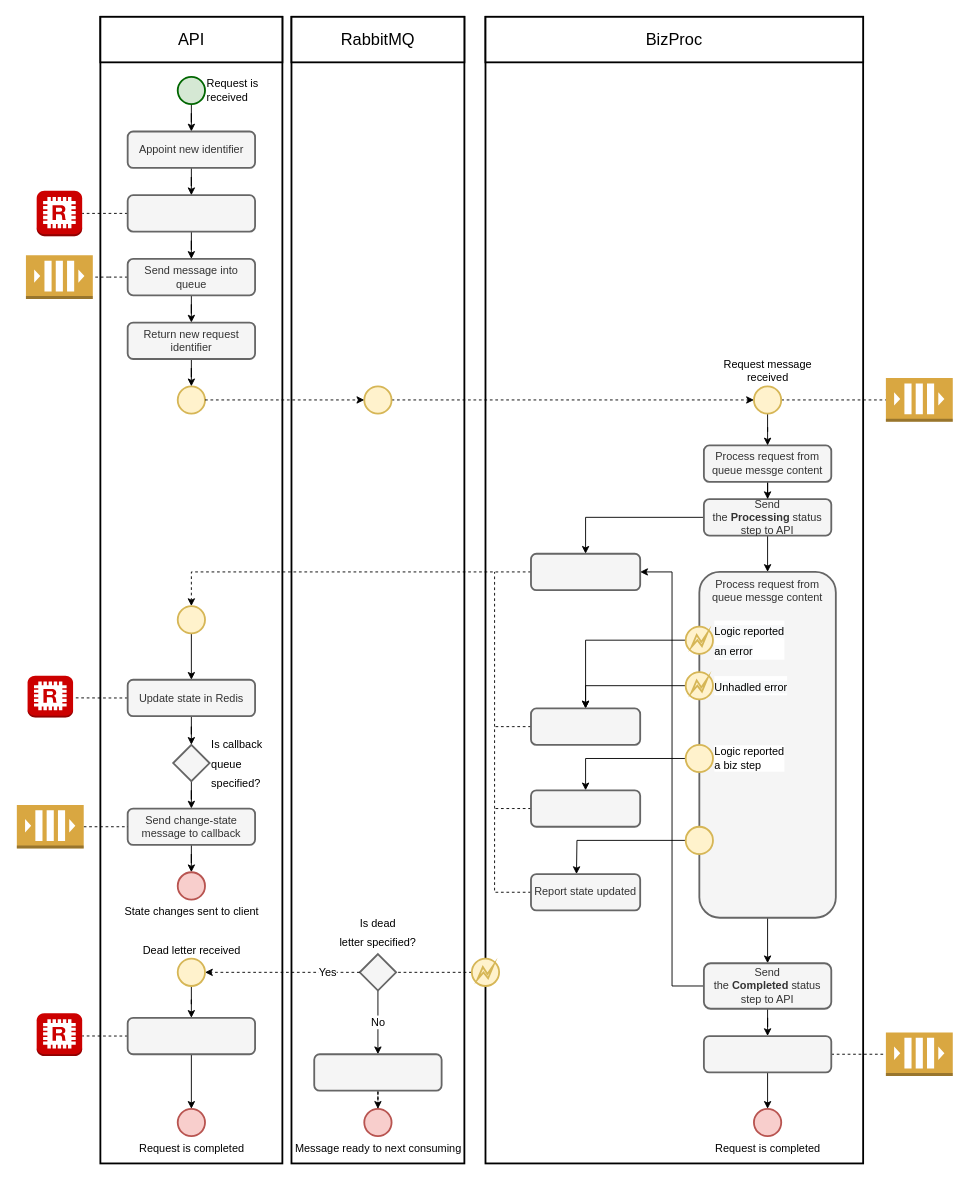
Image size: 969x1179. Some labels were removed from this diagram. The shapes that lost their labels are listed below. From the top down, each one's centre as x and y in pixels, then its label:
At [191,213]: "Save initial state to Redis".
At [190,399]: "Message sent".
At [377,399]: "Message publication".
At [585,571]: "Report processing step changed".
At [190,619]: "Change state request".
At [585,726]: "Send error report".
At [585,808]: "Report biz step event".
At [698,839]: "Logic reported an result".
At [485,971]: "Consuming error".
At [191,1035]: "Save error in Redis".
At [767,1054]: "Ack mesage in queue".
At [377,1072]: "Back message to queue".
